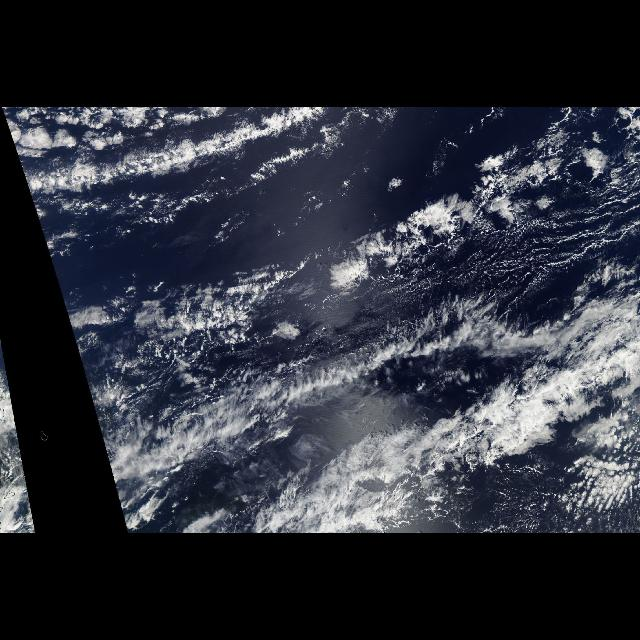Fish: (252, 348, 622, 532)
